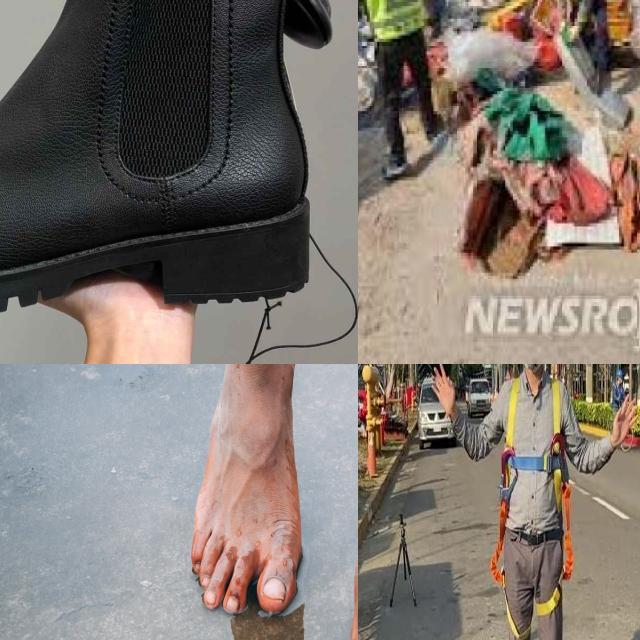Harness: (491, 378, 573, 586)
Sandals: (0, 0, 358, 328), (193, 364, 303, 614)
